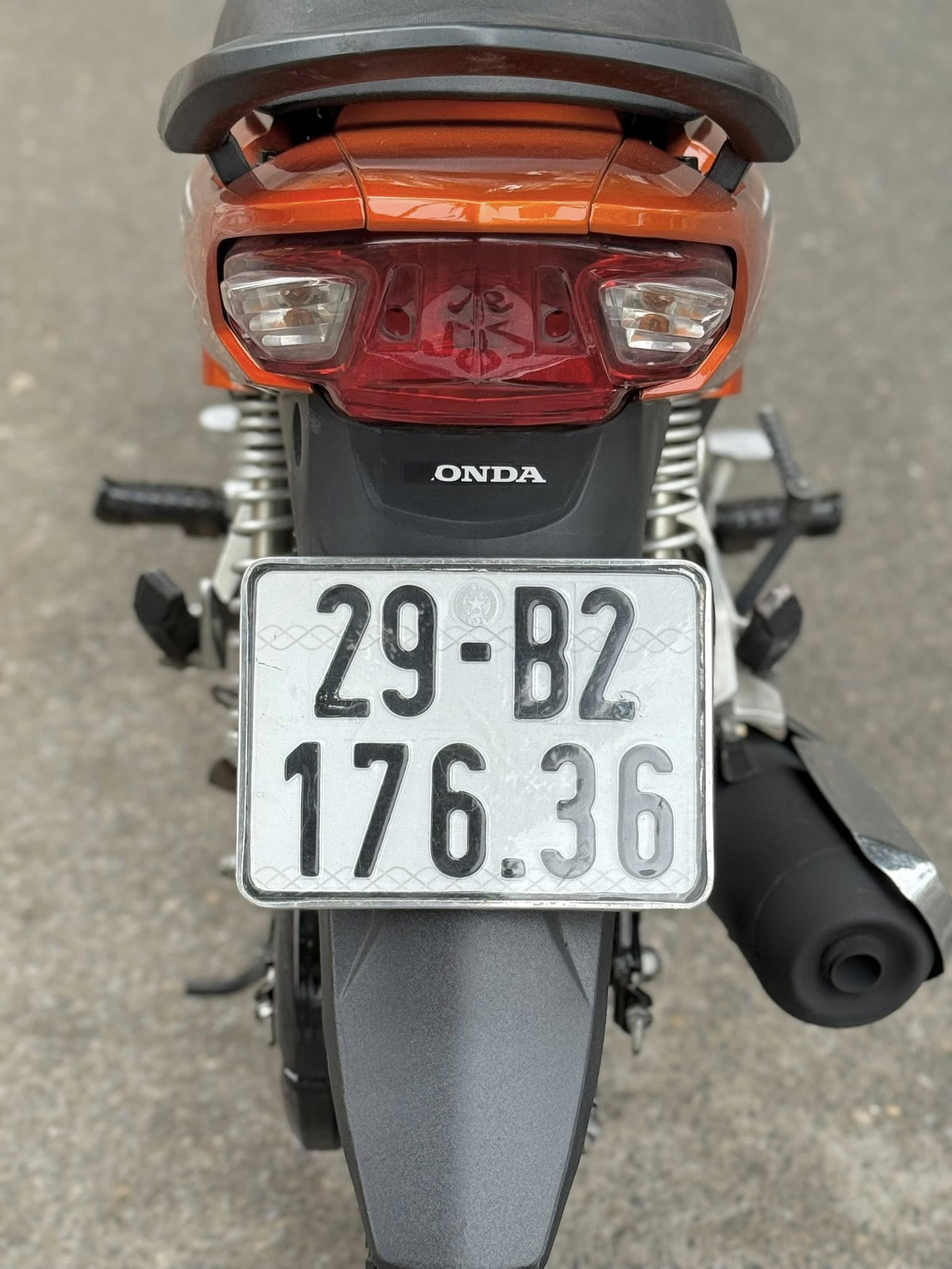bien_so: (223, 542, 725, 918)
